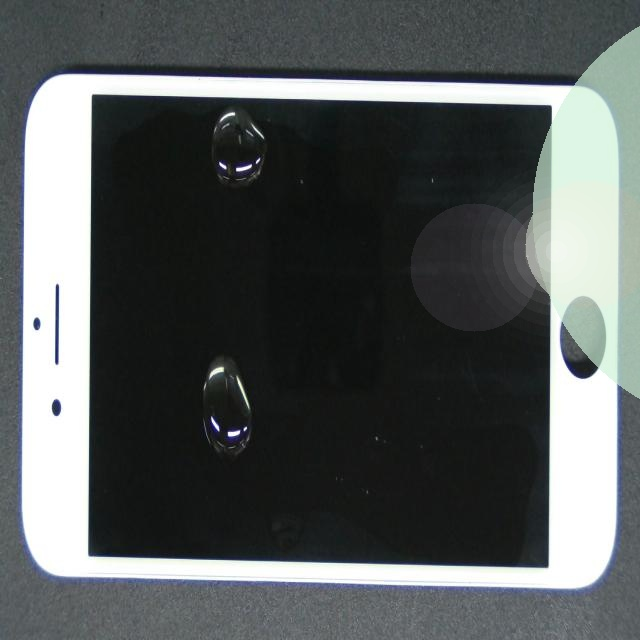oil: (142, 261, 369, 597), (155, 90, 383, 191)
